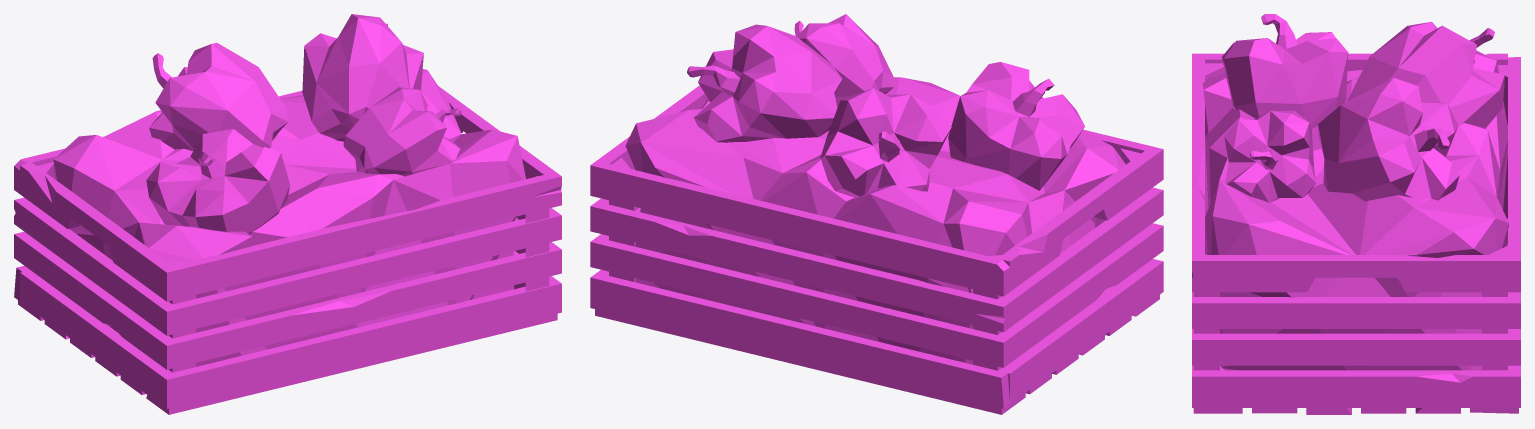
File: SM_Crate_Wood_Medium_Peppers.fbx
The picture shows the model from 3 angles, left to right: view 1: azimuth 30°, elevation 25°; view 2: azimuth 150°, elevation 25°; view 3: azimuth 270°, elevation 25°; orthographic projection. The views are drawn at different scales.
Visible parts, largest first — view 1: SM_Crate_Wood_Medium_Peppers; view 2: SM_Crate_Wood_Medium_Peppers; view 3: SM_Crate_Wood_Medium_Peppers.
Part boxes in pixels (left/top/right/bottom): SM_Crate_Wood_Medium_Peppers: left=14, top=14, right=561, bottom=414; SM_Crate_Wood_Medium_Peppers: left=590, top=14, right=1163, bottom=414; SM_Crate_Wood_Medium_Peppers: left=1192, top=14, right=1520, bottom=414.
Bounding box in the file's own units: 0.6067 × 0.3819 × 0.4063.
